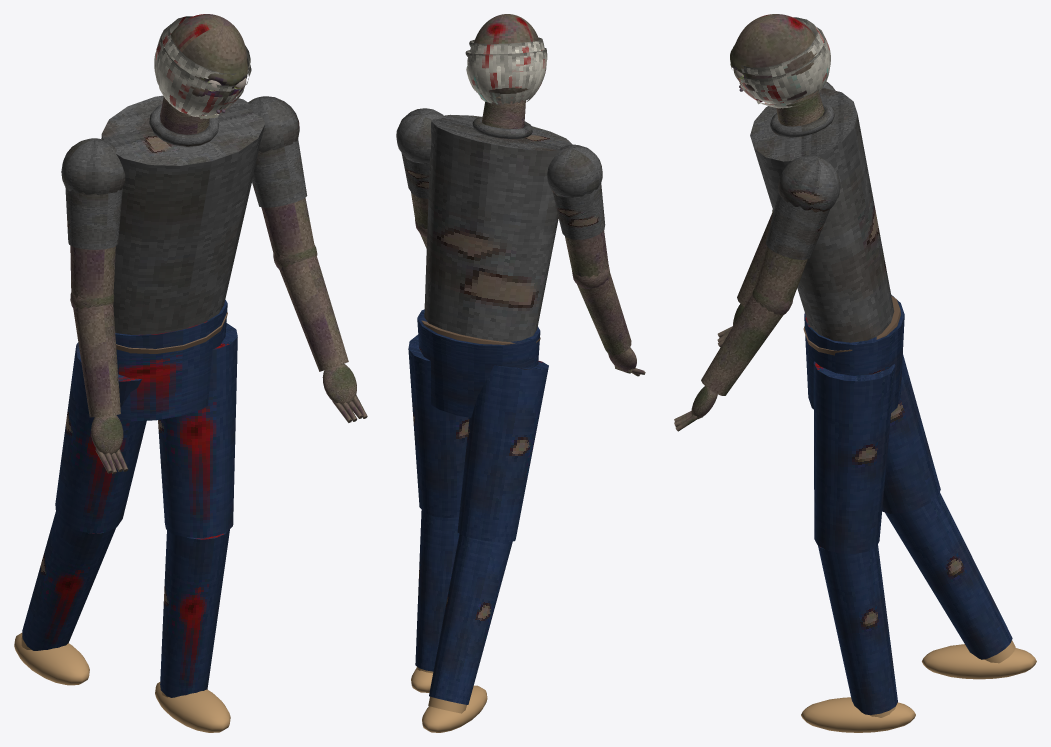
The model's file is Zombie_144.glb.
The picture shows the model from 3 angles, left to right: view 1: azimuth 30°, elevation 25°; view 2: azimuth 150°, elevation 25°; view 3: azimuth 270°, elevation 25°; orthographic projection. The views are drawn at different scales.
Visible parts, largest first — view 1: Zombie_144, object 16, object 3, object 10, object 43, object 42, object 11, object 4; view 2: Zombie_144, object 43, object 3, object 16, object 42, object 4, object 2; view 3: Zombie_144, object 16, object 10, object 43, object 42, object 3.
Part boxes in pixels (x1=…): Zombie_144: x1=14, y1=95, x2=314, y2=732; object 16: x1=164, y1=14, x2=247, y2=109; object 3: x1=73, y1=303, x2=120, y2=417; object 10: x1=279, y1=255, x2=348, y2=371; object 43: x1=154, y1=24, x2=251, y2=116; object 42: x1=156, y1=16, x2=250, y2=104; object 11: x1=322, y1=363, x2=356, y2=404; object 4: x1=91, y1=415, x2=123, y2=454; Zombie_144: x1=396, y1=95, x2=608, y2=732; object 43: x1=465, y1=48, x2=547, y2=104; object 3: x1=577, y1=273, x2=631, y2=354; object 16: x1=474, y1=14, x2=539, y2=94; object 42: x1=467, y1=37, x2=544, y2=98; object 4: x1=608, y1=347, x2=636, y2=371; object 2: x1=572, y1=265, x2=609, y2=288; Zombie_144: x1=750, y1=81, x2=1036, y2=732; object 16: x1=730, y1=14, x2=816, y2=100; object 10: x1=701, y1=295, x2=783, y2=395; object 43: x1=730, y1=27, x2=830, y2=108; object 42: x1=732, y1=17, x2=824, y2=104; object 3: x1=737, y1=213, x2=772, y2=306.
Size of the model in its own units: 0.7016 by 2.05 by 0.9652.
Materials: 16 (6 with a texture image).
